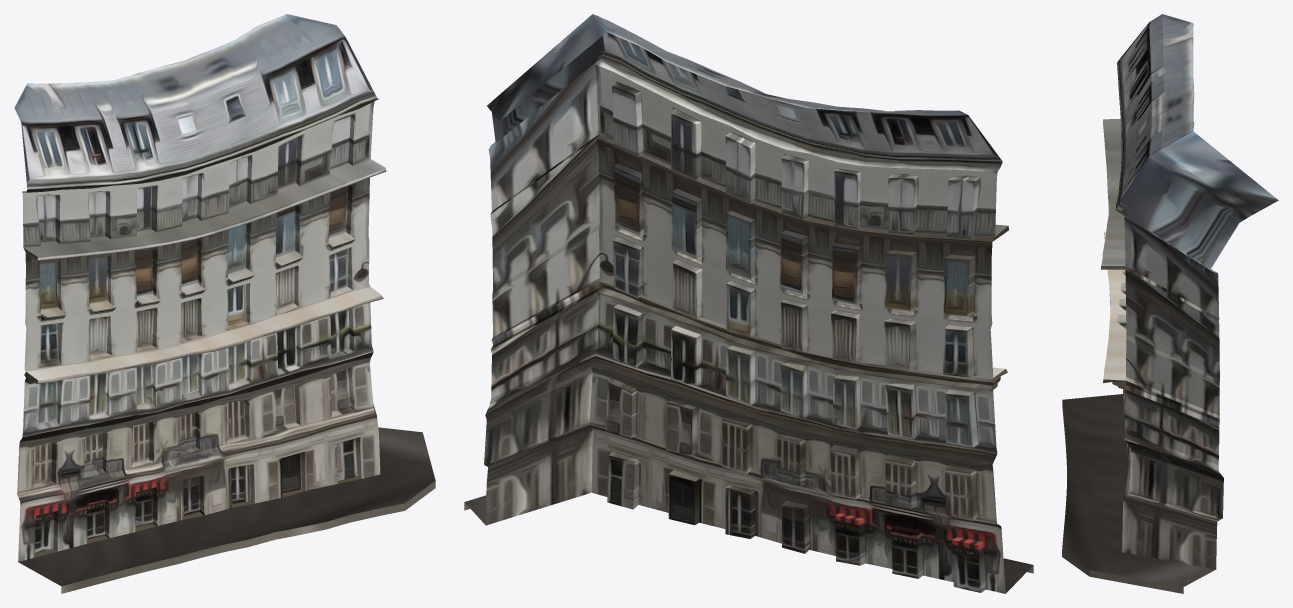
The model's file is House_1.fbx.
3 renders of one model, left to right at view 1: azimuth 30°, elevation 25°; view 2: azimuth 150°, elevation 25°; view 3: azimuth 270°, elevation 25°, orthographic. The views are drawn at different scales.
Visible parts, largest first — view 1: House_1; view 2: House_1; view 3: House_1.
Part boxes in pixels (x1,y1,x2,y2): House_1: [14, 14, 435, 593]; House_1: [464, 14, 1033, 593]; House_1: [1062, 14, 1278, 593].
Bounding box in the file's own units: 87.46 × 86.69 × 41.84.
